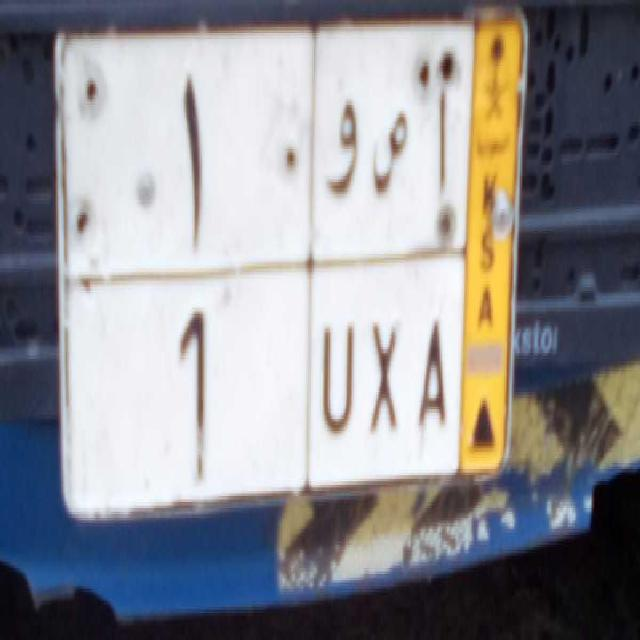license_plate: (60, 264, 465, 496)
